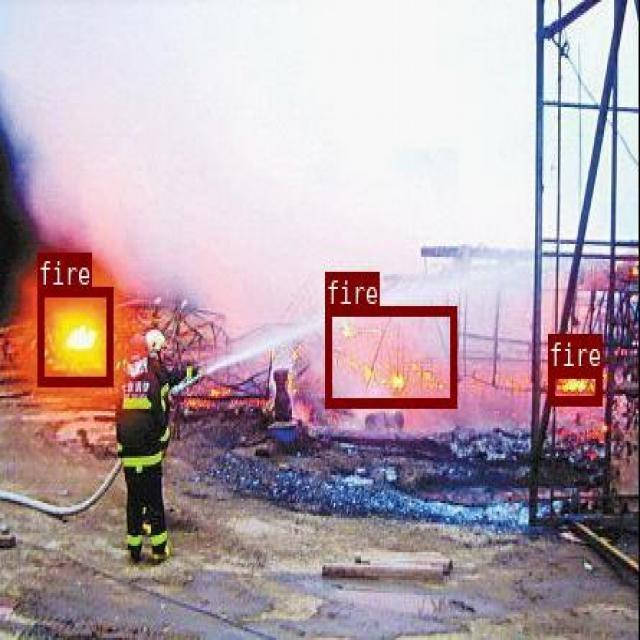fire: (324, 305, 455, 406), (37, 285, 111, 385), (548, 367, 601, 403)
